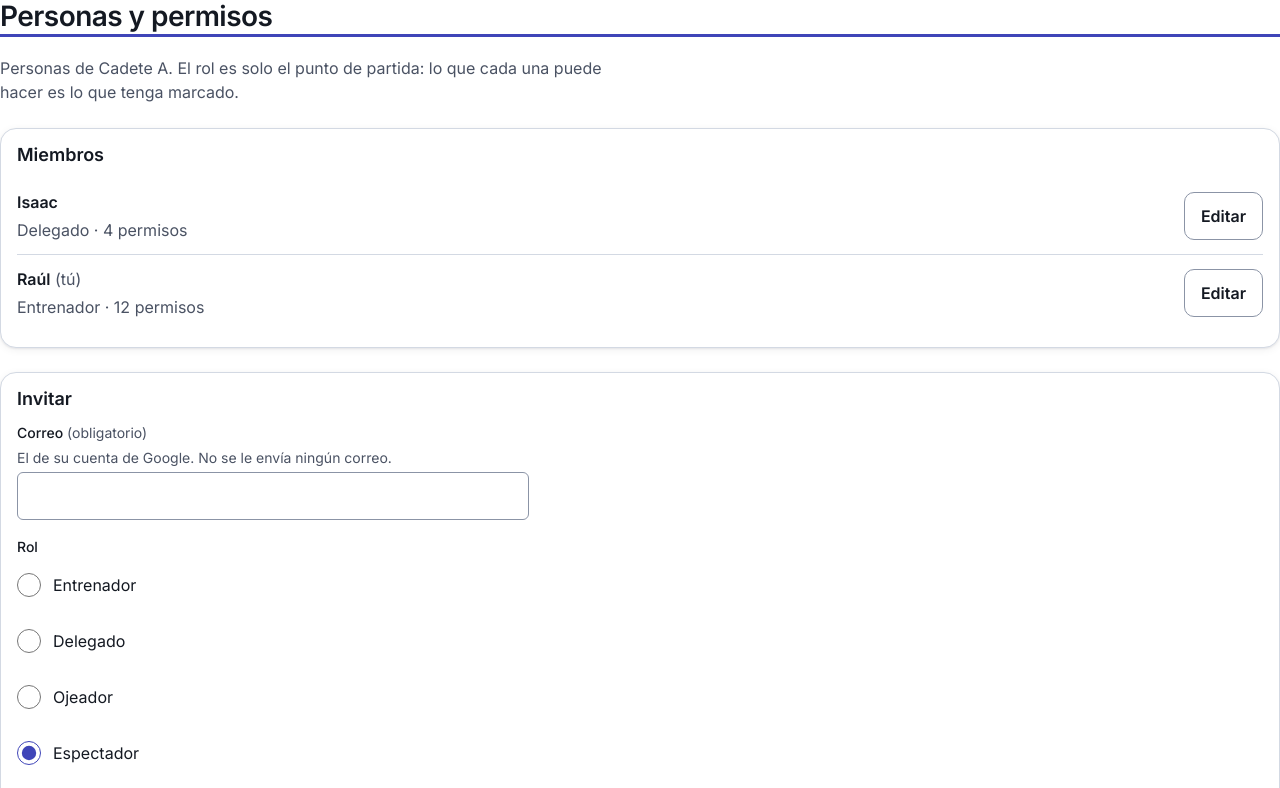
Test: A07 · Personas y permisos › la casilla de `members.manage` de uno mismo está desactivada, y la baja también
The width and height of the screenshot is (1280, 788).
Click the button with aria-label "Editar a Raúl". click: (1223, 293)
box: [1184,269,1263,317]
(page scrolled)
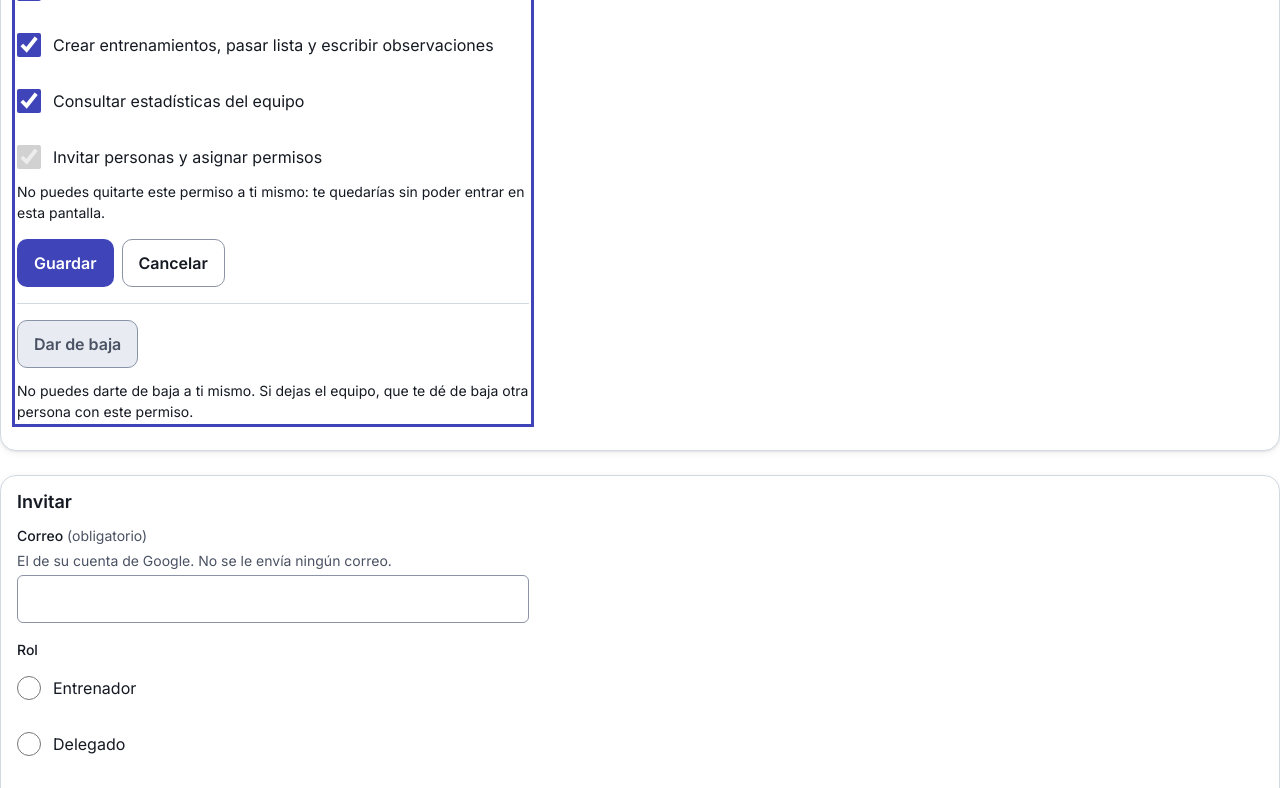
Now the checkbox labelled "Invitar personas y asignar permisos" is disabled, box [17,145,41,169]
Now the button "Dar de baja" is disabled, box [17,320,138,368]
Now the text "No puedes quitarte este permiso" is shown, box [17,183,524,221]
